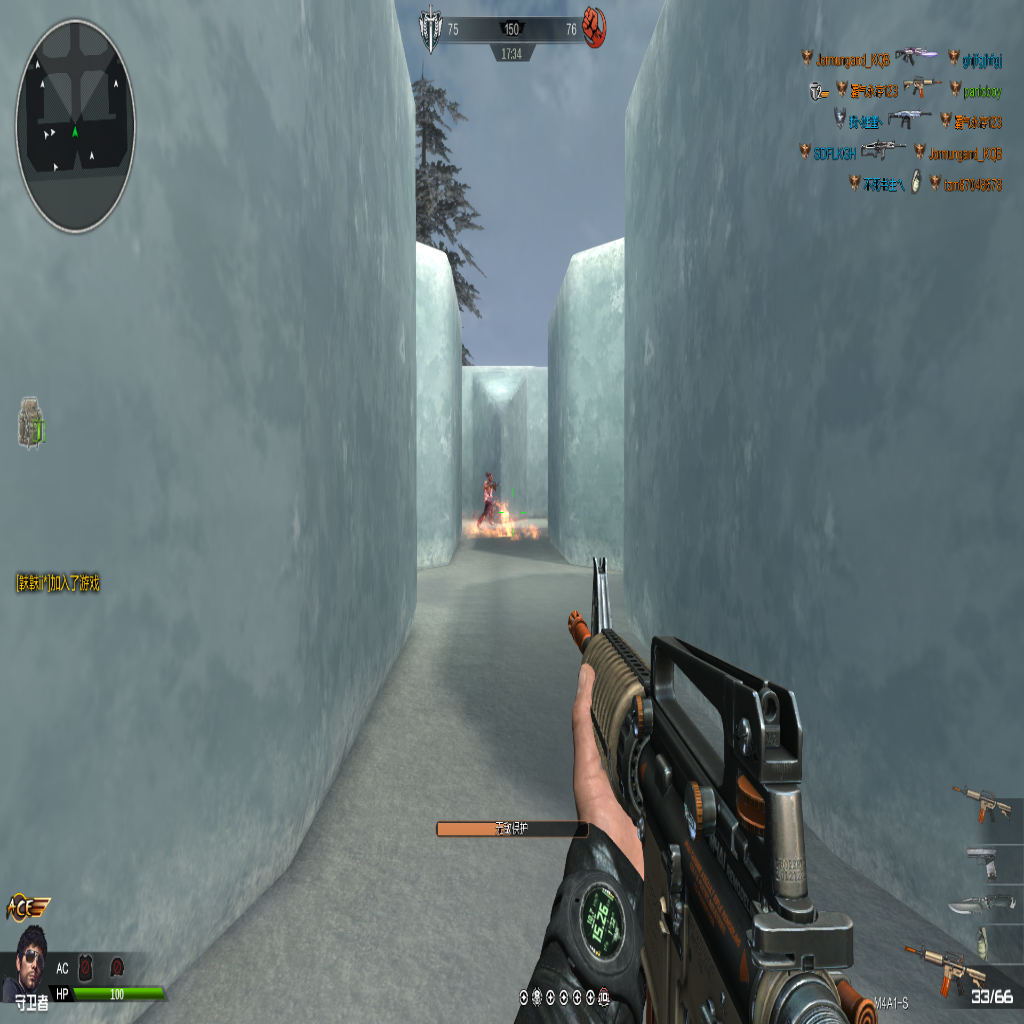tt: (481, 469, 499, 521)
